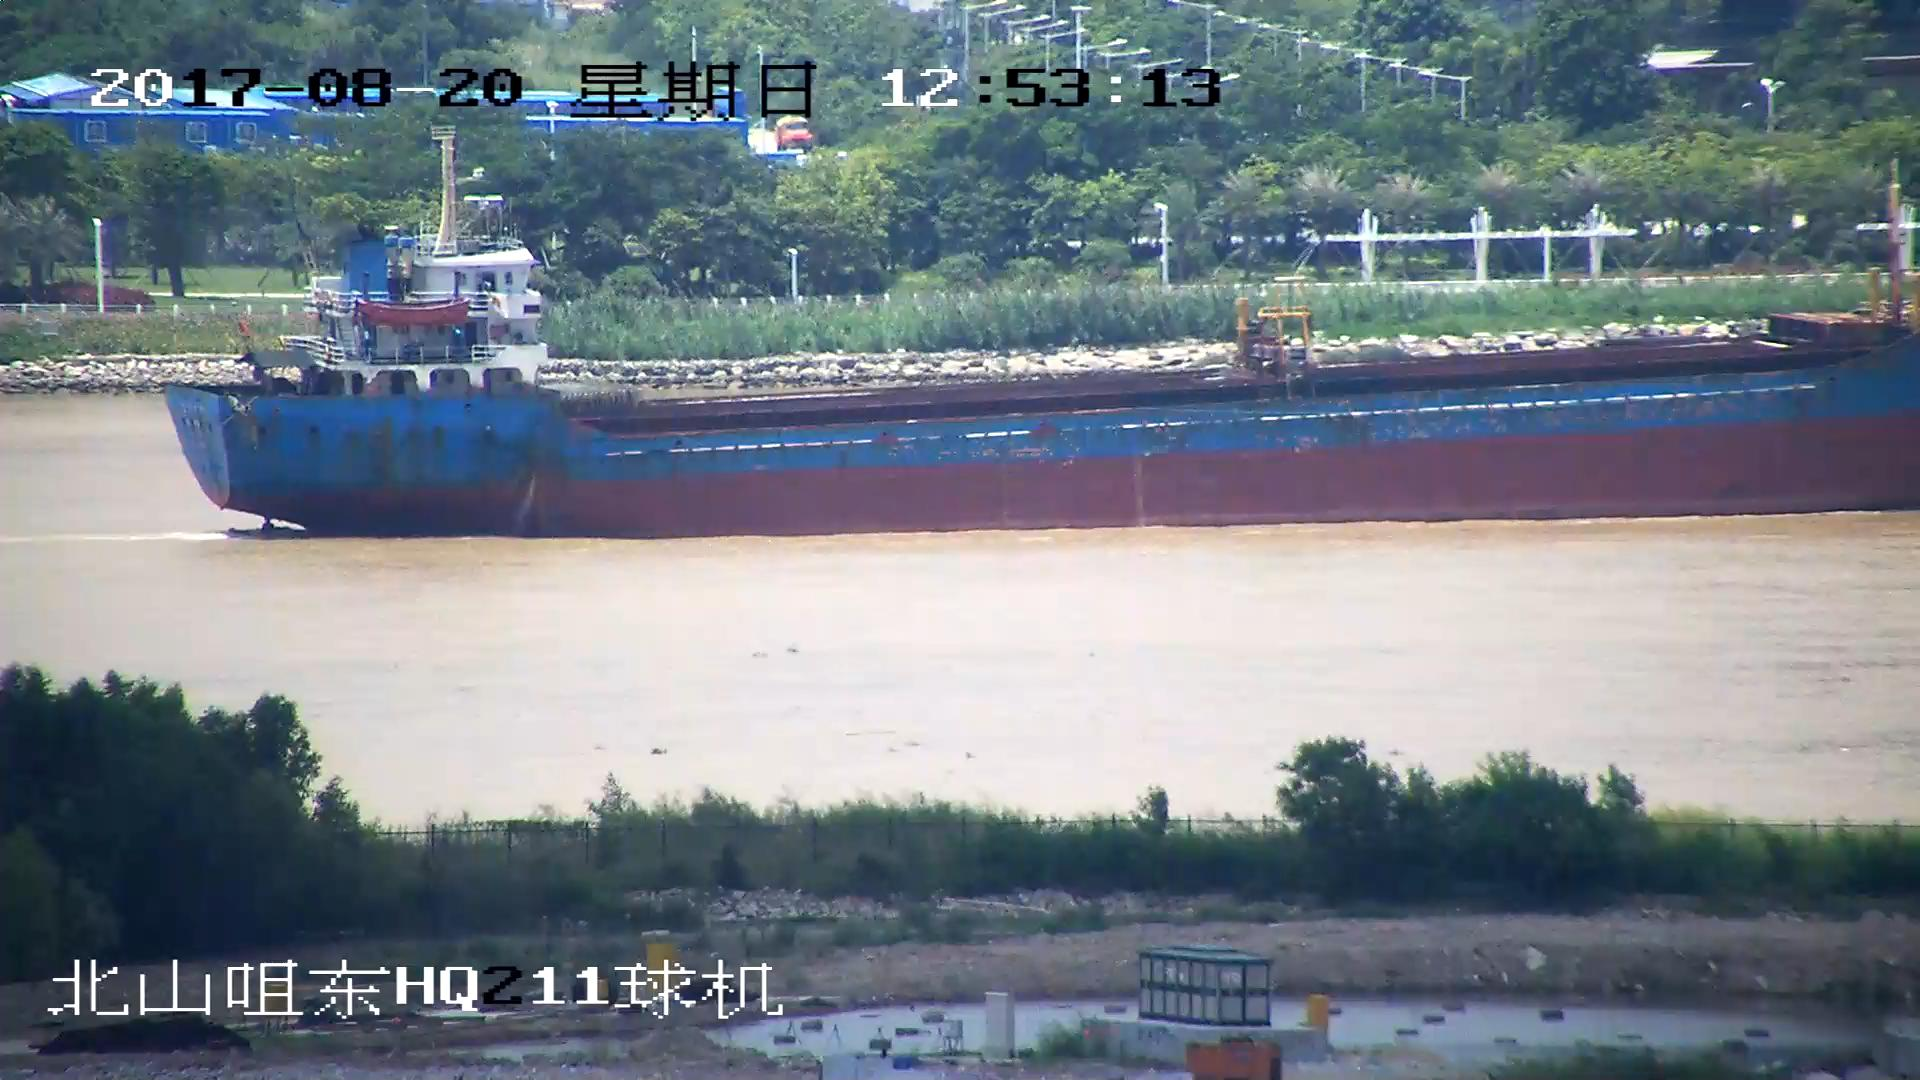general cargo ship: (164, 162, 1920, 538)
